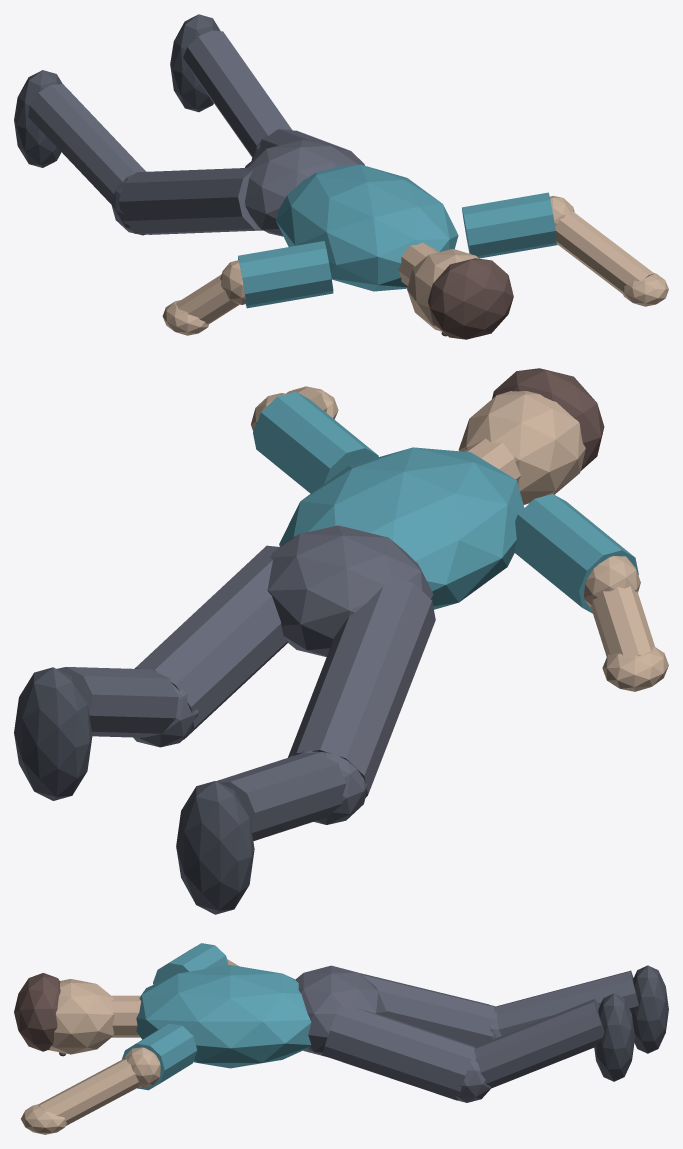
The picture shows the model from 3 angles, top to bottom: view 1: azimuth 30°, elevation 25°; view 2: azimuth 150°, elevation 25°; view 3: azimuth 270°, elevation 25°; orthographic projection. The views are drawn at different scales.
Visible parts, largest first — view 1: world; view 2: world; view 3: world.
Boxes of the visible parts, x1,y1,x2,y2 form: world: (14, 14, 668, 339); world: (14, 368, 668, 914); world: (14, 943, 668, 1134).
Bounding box in the file's own units: 1.25 × 0.4125 × 2.01.
